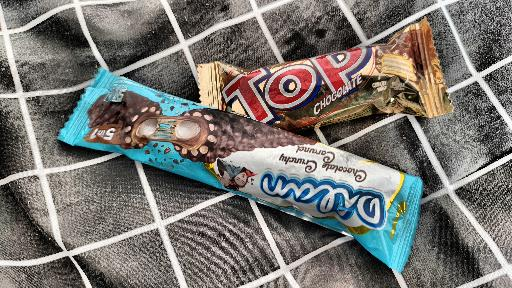dilan: (31, 131, 459, 254)
top: (201, 16, 459, 129)
